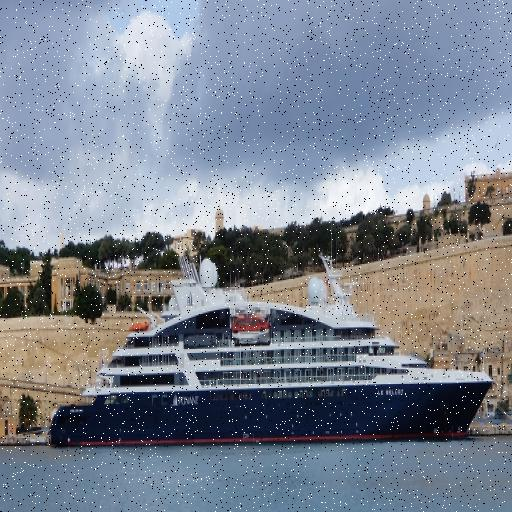cruises: (47, 249, 496, 456)
